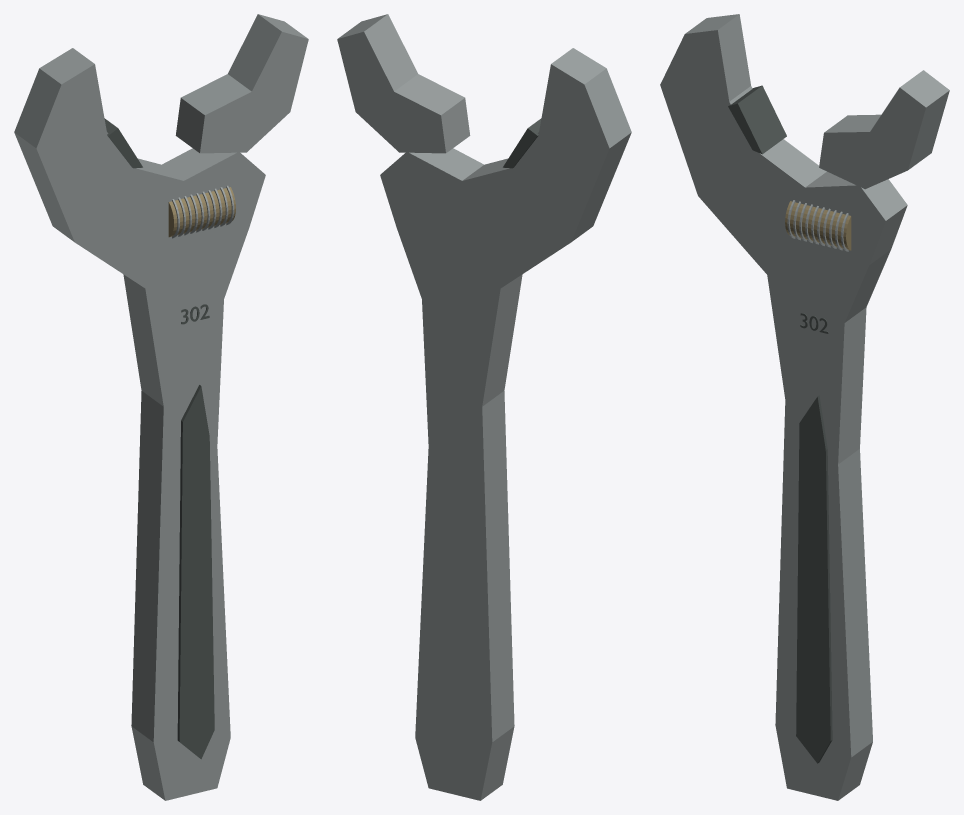
The model's file is wrench.glb.
3 renders of one model, left to right at view 1: azimuth 30°, elevation 25°; view 2: azimuth 150°, elevation 25°; view 3: azimuth 330°, elevation 25°, orthographic.
Parts seen in each view (by area): view 1: Forged wrench body, Handle recess, Sliding jaw, Thumb adjustment screw, Jaw contact face; view 2: Forged wrench body, Sliding jaw, Jaw contact face; view 3: Forged wrench body, Handle recess, Sliding jaw, Jaw contact face, Thumb adjustment screw.
Part boxes in pixels (bbox=[...]): Forged wrench body: bbox=[14, 48, 265, 800]; Handle recess: bbox=[177, 385, 214, 759]; Sliding jaw: bbox=[175, 14, 308, 153]; Thumb adjustment screw: bbox=[168, 187, 235, 237]; Jaw contact face: bbox=[104, 118, 142, 168]; Forged wrench body: bbox=[380, 48, 631, 800]; Sliding jaw: bbox=[337, 14, 470, 153]; Jaw contact face: bbox=[503, 118, 541, 168]; Forged wrench body: bbox=[660, 14, 907, 800]; Handle recess: bbox=[796, 395, 832, 763]; Sliding jaw: bbox=[819, 70, 949, 189]; Jaw contact face: bbox=[728, 85, 786, 154]; Thumb adjustment screw: bbox=[785, 201, 851, 250].
Bounding box in the file's own units: 0.162 × 0.43 × 0.031.
